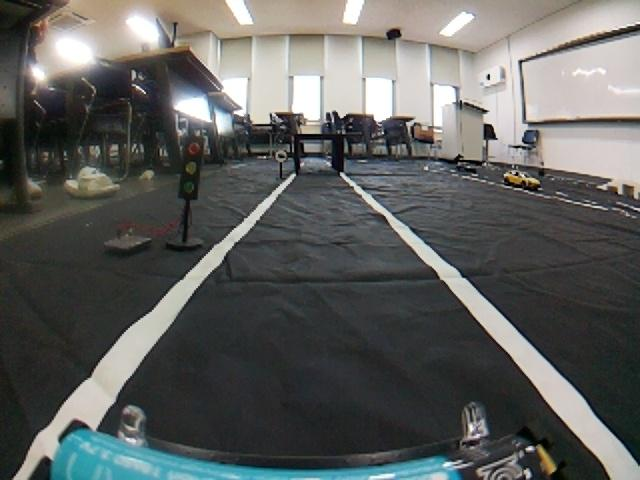red_light: (178, 136, 204, 203)
straight: (2, 208, 640, 480)
